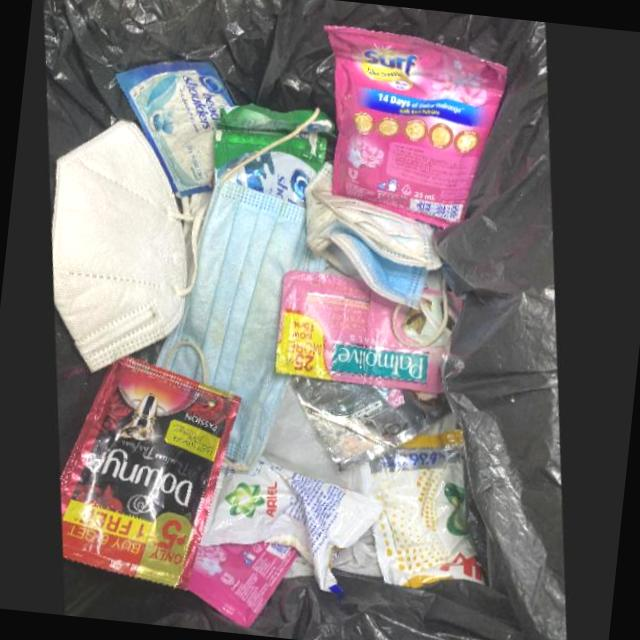goi_nhua_nho: (60, 356, 241, 589), (324, 23, 508, 228), (199, 456, 383, 594), (275, 269, 459, 393), (370, 427, 490, 588), (115, 60, 236, 194), (288, 374, 453, 472), (214, 103, 334, 202), (188, 541, 299, 627)
khau_trang: (155, 178, 327, 464), (51, 118, 195, 370), (305, 161, 440, 305)
